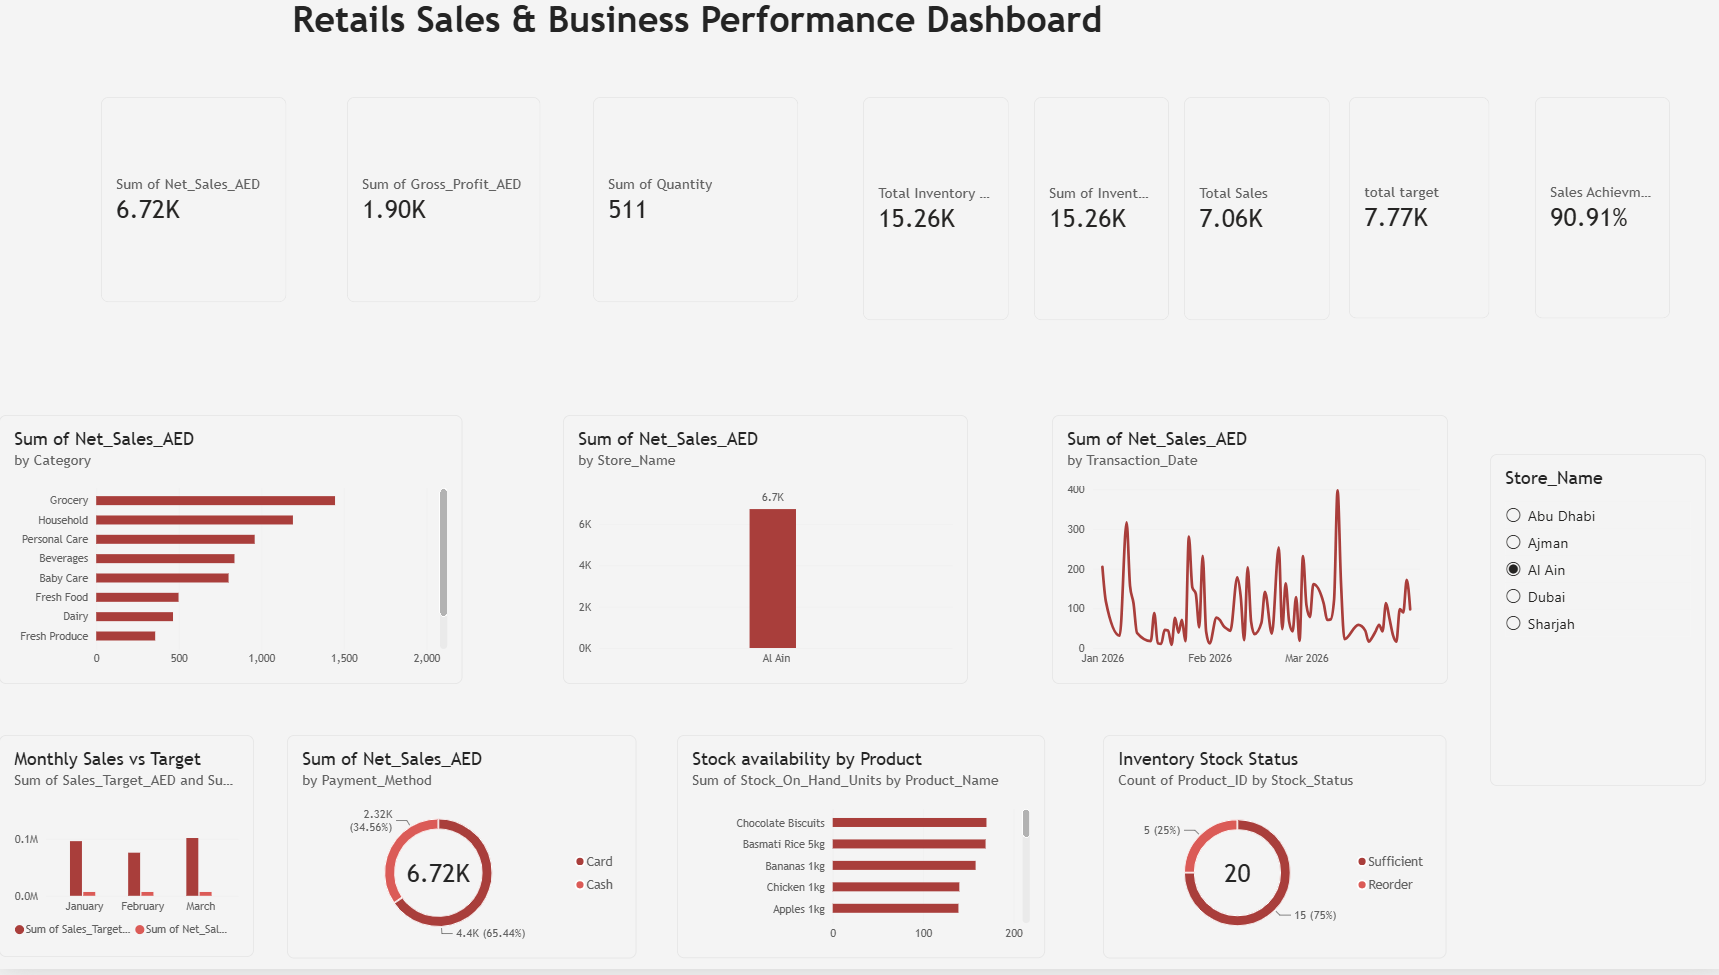

The page's visual inventory and layout, read from the dashboard file:
{"tool":"powerbi","page":{"name":"Sales Overview","canvas":[1920,1080],"ordinal":0},"visuals":[{"type":"cardVisual","fields":{"Data":["Sum(Sales_Data.Net_Sales_AED)"]},"box":[113.3,110,206.7,228.3],"z":0},{"type":"cardVisual","fields":{"Data":["Sum(Sales_Data.Gross_Profit_AED)"]},"box":[385,110,215,228.3],"z":1000},{"type":"cardVisual","fields":{"Data":["Sum(Sales_Data.Quantity)"]},"box":[660,110,228.3,228.3],"z":2000},{"type":"clusteredColumnChart","fields":{"Category":["Store_Master.Store_Name"],"Y":["Sum(Sales_Data.Net_Sales_AED)"]},"box":[625,462.5,450,300],"z":3000},{"type":"clusteredBarChart","fields":{"Category":["Product_Master.Category"],"Y":["Sum(Sales_Data.Net_Sales_AED)"]},"box":[0,462.5,515,300],"z":4000},{"type":"lineChart","fields":{"Category":["Sales_Data.Transaction_Date"],"Y":["Sum(Sales_Data.Net_Sales_AED)"]},"box":[1170,463.3,440,300],"z":5000},{"type":"textbox","title":"Retails Sales & Business Performance Dashboard","box":[112.5,0,1325,110],"z":6000},{"type":"donutChart","fields":{"Category":["Sales_Data.Payment_Method"],"Y":["Sum(Sales_Data.Net_Sales_AED)"]},"box":[320,818.3,388.3,248.3],"z":7000},{"type":"clusteredColumnChart","title":"Monthly Sales vs Target","fields":{"Category":["Monthly_Targets.Month.Variation.Date Hierarchy.Month"],"Y":["Sum(Monthly_Targets.Sales_Target_AED)","Sum(Sales_Data.Net_Sales_AED)"]},"box":[0,818.3,283.3,246.7],"z":8000},{"type":"clusteredBarChart","title":"Stock availability by Product","fields":{"Category":["Product_Master.Product_Name"],"Y":["Sum(Inventory_Data.Stock_On_Hand_Units)"]},"box":[753.3,820,409,248],"z":9000},{"type":"donutChart","title":"Inventory  Stock  Status","fields":{"Category":["Inventory_Data.Stock_Status"],"Y":["CountNonNull(Inventory_Data.Product_ID)"]},"box":[1226.7,820,381.7,248.3],"z":10000},{"type":"cardVisual","title":"Total Inventory Value","fields":{"Data":["Sum(Inventory_Data.Inventory_Value_AED)"]},"box":[1150,110,150,248],"z":11000},{"type":"listSlicer","fields":{"Values":["Store_Master.Store_Name"]},"box":[1656.7,506.7,240,370],"z":12000},{"type":"cardVisual","title":"Total Sale","fields":{"Data":["Inventory_Data.Total Sales"]},"box":[1316.7,110,162,248],"z":13000},{"type":"cardVisual","fields":{"Data":["Inventory_Data.total target"]},"box":[1500,110,156.7,246.7],"z":14000},{"type":"cardVisual","fields":{"Data":["Inventory_Data.Sales Achievment %"]},"box":[1706.7,110,150,246.7],"z":15000},{"type":"cardVisual","fields":{"Data":["Inventory_Data.Total Inventory Value"]},"box":[960,110,162,248],"z":16000}]}

Visuals, with their boxes in screenshot pixels (x1, y1, x2, y2), scaled from the page's 1920x1080 canvas onto the 1719x975 screenshot:
cardVisual - Sum(Sales_Data.Net_Sales_AED): <box>101,99,286,305</box>
cardVisual - Sum(Sales_Data.Gross_Profit_AED): <box>345,99,537,305</box>
cardVisual - Sum(Sales_Data.Quantity): <box>591,99,795,305</box>
clusteredColumnChart - Store_Master.Store_Name x Sum(Sales_Data.Net_Sales_AED): <box>560,418,962,688</box>
clusteredBarChart - Product_Master.Category x Sum(Sales_Data.Net_Sales_AED): <box>0,418,461,688</box>
lineChart - Sales_Data.Transaction_Date x Sum(Sales_Data.Net_Sales_AED): <box>1048,418,1441,689</box>
"Retails Sales & Business Performance Dashboard" textbox: <box>101,0,1287,99</box>
donutChart - Sales_Data.Payment_Method x Sum(Sales_Data.Net_Sales_AED): <box>286,739,634,963</box>
"Monthly Sales vs Target" clusteredColumnChart: <box>0,739,254,961</box>
"Stock availability by Product" clusteredBarChart: <box>674,740,1041,964</box>
"Inventory  Stock  Status" donutChart: <box>1098,740,1440,964</box>
"Total Inventory Value" cardVisual: <box>1030,99,1164,323</box>
listSlicer - Store_Master.Store_Name: <box>1483,457,1698,791</box>
"Total Sale" cardVisual: <box>1179,99,1324,323</box>
cardVisual - Inventory_Data.total target: <box>1343,99,1483,322</box>
cardVisual - Inventory_Data.Sales Achievment %: <box>1528,99,1662,322</box>
cardVisual - Inventory_Data.Total Inventory Value: <box>860,99,1005,323</box>
